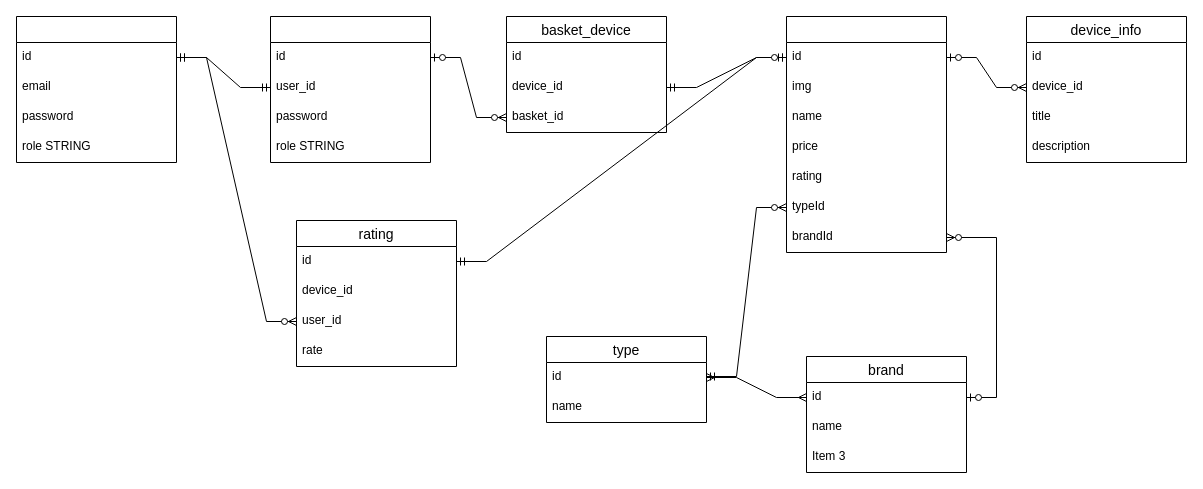
The diagram is 1203 pixels wide and 489 high, and some of its shapes have lost their labels. The shapes that lost their labels are listed below. From the top down, each one's box as (x1, y1, x2, y2) in pixels, then its label:
(16, 16, 176, 162): user
(270, 16, 430, 162): bascket
(786, 16, 946, 252): device
